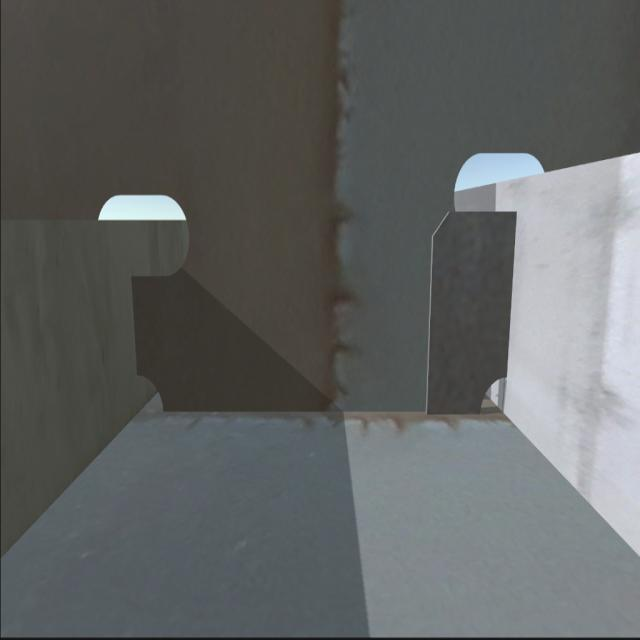fillet_hole: (474, 371, 508, 423), (133, 371, 165, 414)
fillet_yong_jeop_jang: (149, 394, 478, 423)
longi_yong_jeop_jang: (494, 211, 520, 387), (129, 278, 146, 371)
plate_CP03: (429, 205, 511, 408)
